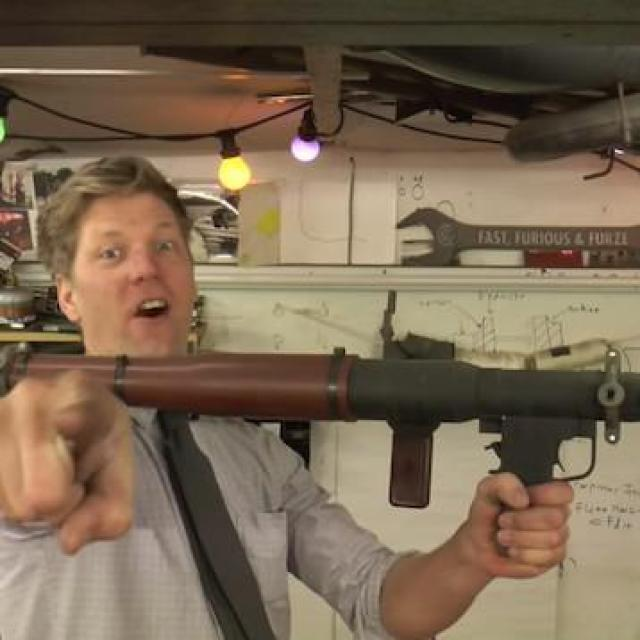bazooka: (1, 325, 640, 524)
